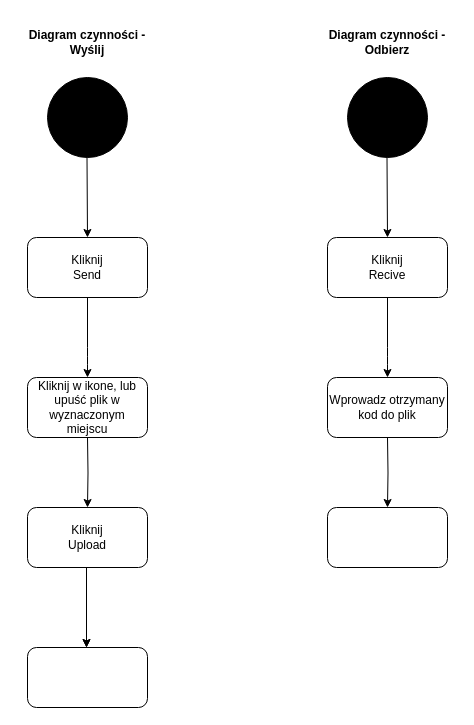
Image size: 474x725. Some labels were removed from this diagram. Each missing label, with the centre of its shape:
Otrzymany kod udostępnij odbiorcy: (87,677)
Pobierz zdjęcie po kliknieciu w nie: (387,537)
